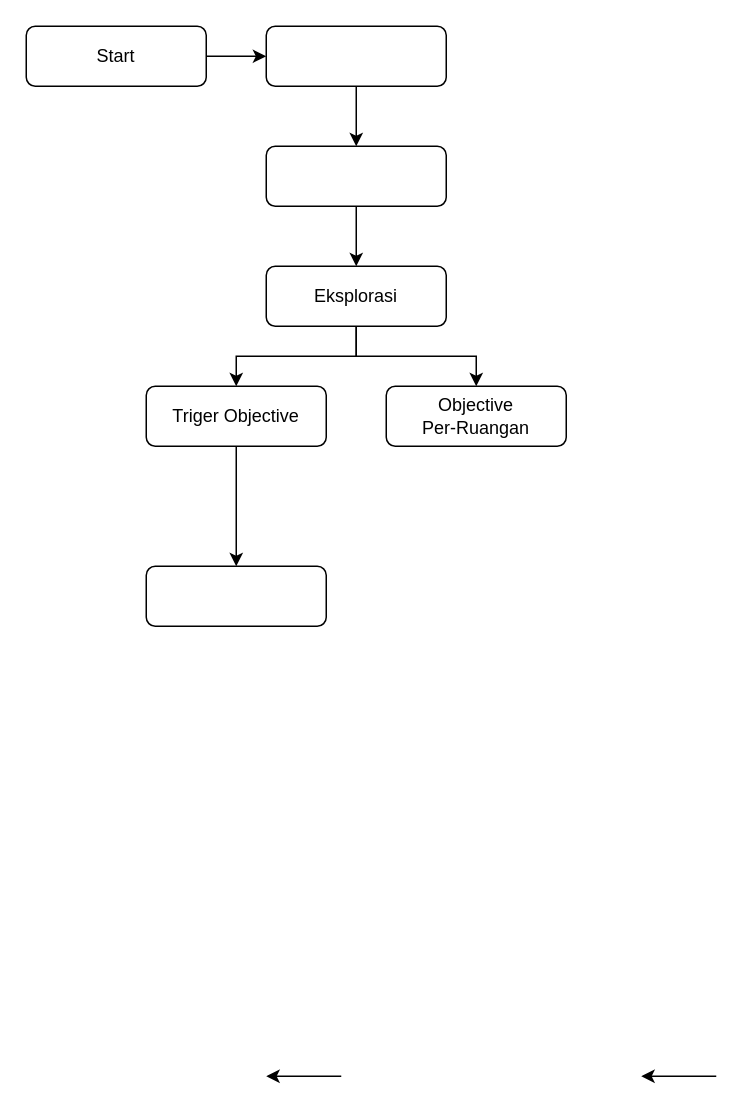
The diagram is 755 pixels wide and 1115 high, and some of its shapes have lost their labels. The centre of each missing label's shape, as x and y in pixels:
[Spawn] Bangun Tidur: the point at 355,175
Loading: the point at 355,55
